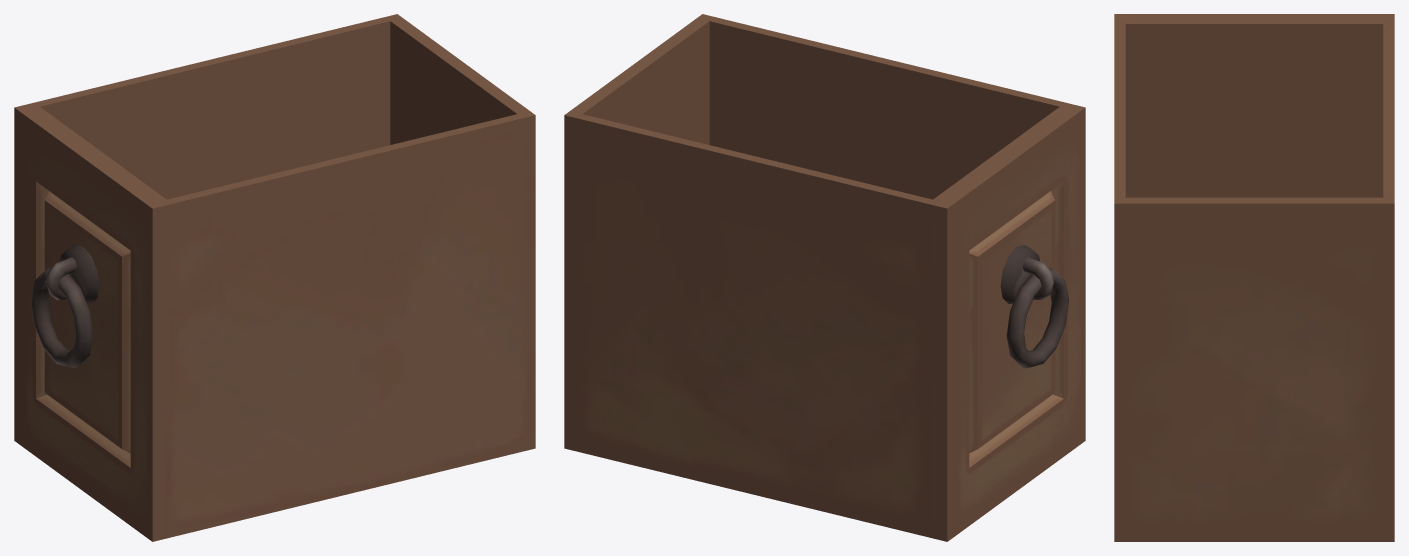
The model's file is EmptyBox.fbx.
3 renders of one model, left to right at view 1: azimuth 30°, elevation 25°; view 2: azimuth 150°, elevation 25°; view 3: azimuth 270°, elevation 25°, orthographic.
Parts seen in each view (by area): view 1: case2, EmptyBox (6), handle, handleBase (1), handleSet; view 2: case2, EmptyBox (6), handle, handleBase (1), handleSet; view 3: case2, EmptyBox (6).
Boxes of the visible parts, x1=… form: case2: x1=27, y1=14, x2=535, y2=538; EmptyBox (6): x1=14, y1=104, x2=165, y2=541; handle: x1=31, y1=268, x2=93, y2=368; handleBase (1): x1=60, y1=244, x2=99, y2=303; handleSet: x1=46, y1=257, x2=76, y2=299; case2: x1=564, y1=14, x2=1072, y2=538; EmptyBox (6): x1=934, y1=104, x2=1085, y2=541; handle: x1=1006, y1=268, x2=1068, y2=368; handleBase (1): x1=1000, y1=244, x2=1039, y2=303; handleSet: x1=1023, y1=257, x2=1053, y2=299; case2: x1=1114, y1=20, x2=1394, y2=541; EmptyBox (6): x1=1114, y1=14, x2=1394, y2=20.
Size of the model in its own units: 4.38 by 3.33 by 2.5.
